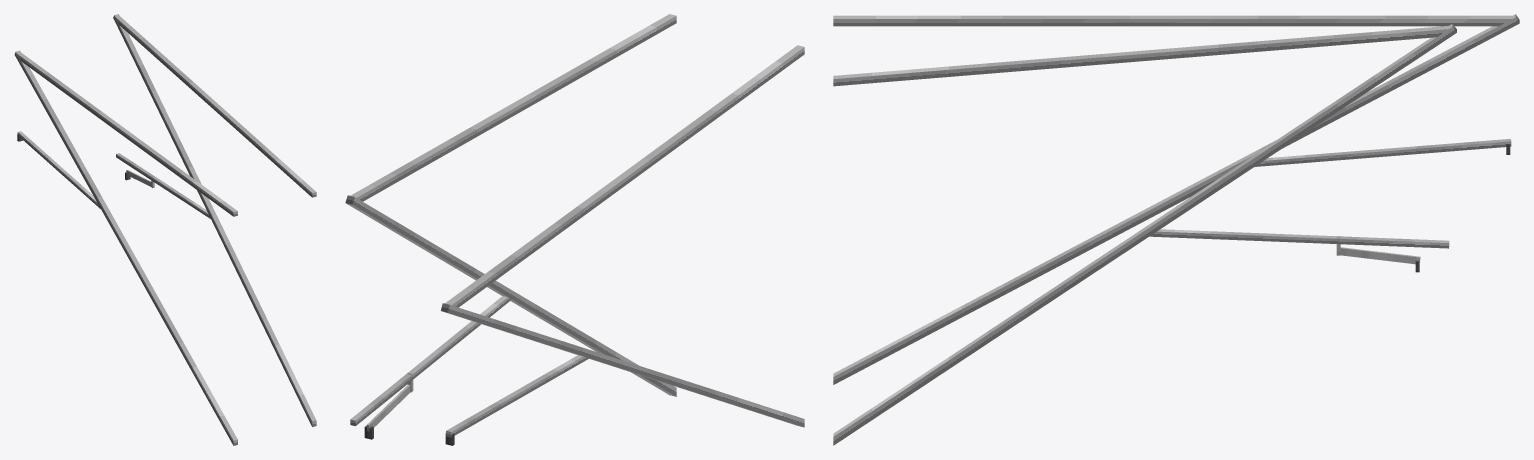
Rendered from cantilever_inner_4px.obj.
3 views of the same model, side by side, from view 1: azimuth 30°, elevation 25°; view 2: azimuth 150°, elevation 25°; view 3: azimuth 270°, elevation 25° (orthographic). The views are drawn at different scales.
Visible parts, largest first — view 1: 57fafef4-9538-4a70-b0a9-f096a35bdcce, ff11b287-e585-4805-ab01-16cc71a5a9b2, be228f6f-855e-4801-94ef-94e637cd483c, 8abb63cd-bc87-4111-b128-b27021efe423, 3ea37da2-6ab3-45b0-82de-d19ca33ea2be, ca05d3a5-a11e-46f7-a14a-5ac11d376d08; view 2: be228f6f-855e-4801-94ef-94e637cd483c, 8abb63cd-bc87-4111-b128-b27021efe423, 57fafef4-9538-4a70-b0a9-f096a35bdcce, ff11b287-e585-4805-ab01-16cc71a5a9b2, 3ea37da2-6ab3-45b0-82de-d19ca33ea2be, ca05d3a5-a11e-46f7-a14a-5ac11d376d08, bb416b20-d28f-49f3-a1c4-8def723581a3; view 3: be228f6f-855e-4801-94ef-94e637cd483c, ff11b287-e585-4805-ab01-16cc71a5a9b2, 57fafef4-9538-4a70-b0a9-f096a35bdcce, 8abb63cd-bc87-4111-b128-b27021efe423, 3ea37da2-6ab3-45b0-82de-d19ca33ea2be, ca05d3a5-a11e-46f7-a14a-5ac11d376d08, bb416b20-d28f-49f3-a1c4-8def723581a3.
Boxes of the visible parts, box(x1,y1,x2,y2) form: 57fafef4-9538-4a70-b0a9-f096a35bdcce: box(14, 50, 237, 445); ff11b287-e585-4805-ab01-16cc71a5a9b2: box(113, 14, 316, 426); be228f6f-855e-4801-94ef-94e637cd483c: box(17, 52, 237, 216); 8abb63cd-bc87-4111-b128-b27021efe423: box(115, 16, 316, 197); 3ea37da2-6ab3-45b0-82de-d19ca33ea2be: box(116, 153, 210, 218); ca05d3a5-a11e-46f7-a14a-5ac11d376d08: box(17, 131, 100, 208); be228f6f-855e-4801-94ef-94e637cd483c: box(445, 45, 804, 307); 8abb63cd-bc87-4111-b128-b27021efe423: box(350, 14, 676, 201); 57fafef4-9538-4a70-b0a9-f096a35bdcce: box(441, 303, 804, 427); ff11b287-e585-4805-ab01-16cc71a5a9b2: box(345, 195, 676, 396); 3ea37da2-6ab3-45b0-82de-d19ca33ea2be: box(350, 296, 511, 426); ca05d3a5-a11e-46f7-a14a-5ac11d376d08: box(446, 355, 589, 437); bb416b20-d28f-49f3-a1c4-8def723581a3: box(367, 384, 410, 431); be228f6f-855e-4801-94ef-94e637cd483c: box(833, 15, 1512, 26); ff11b287-e585-4805-ab01-16cc71a5a9b2: box(833, 23, 1456, 445); 57fafef4-9538-4a70-b0a9-f096a35bdcce: box(833, 14, 1519, 384); 8abb63cd-bc87-4111-b128-b27021efe423: box(833, 25, 1449, 86); 3ea37da2-6ab3-45b0-82de-d19ca33ea2be: box(1150, 229, 1449, 248); ca05d3a5-a11e-46f7-a14a-5ac11d376d08: box(1255, 139, 1511, 166); bb416b20-d28f-49f3-a1c4-8def723581a3: box(1340, 247, 1420, 264).
Size of the model in its own units: 1.19 by 3.66 by 5.43.
